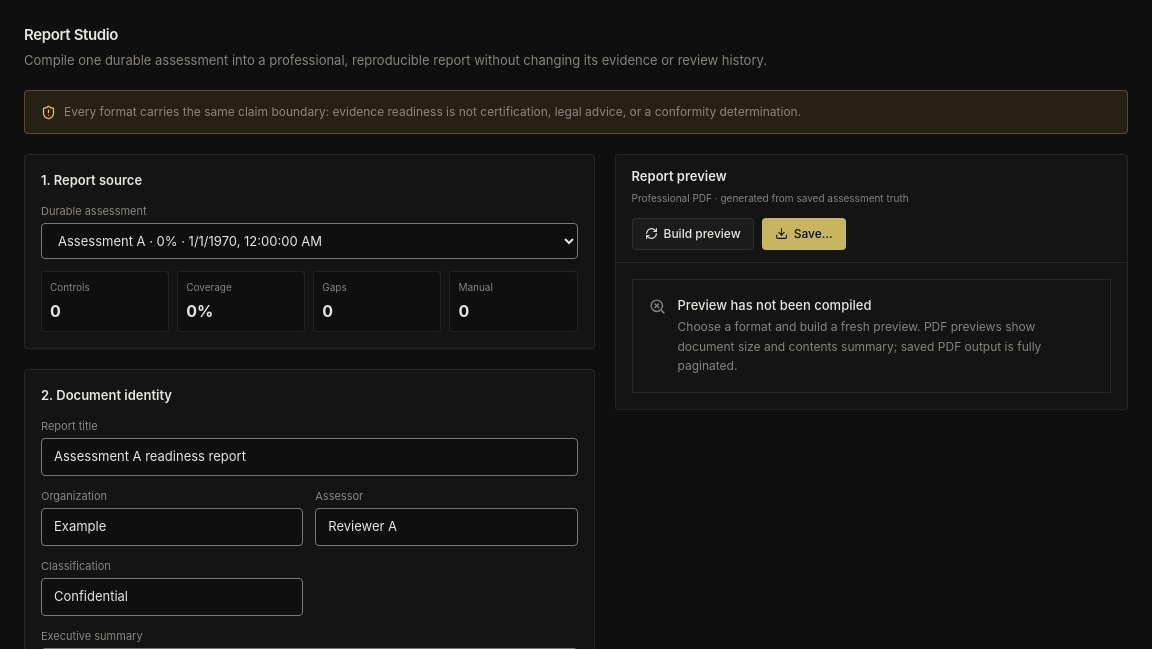
it: a submitted save does not mark changed assessment inputs as saved
Click the button "Save…" at (804, 234), box top-left (762, 218), bottom-right (846, 250)
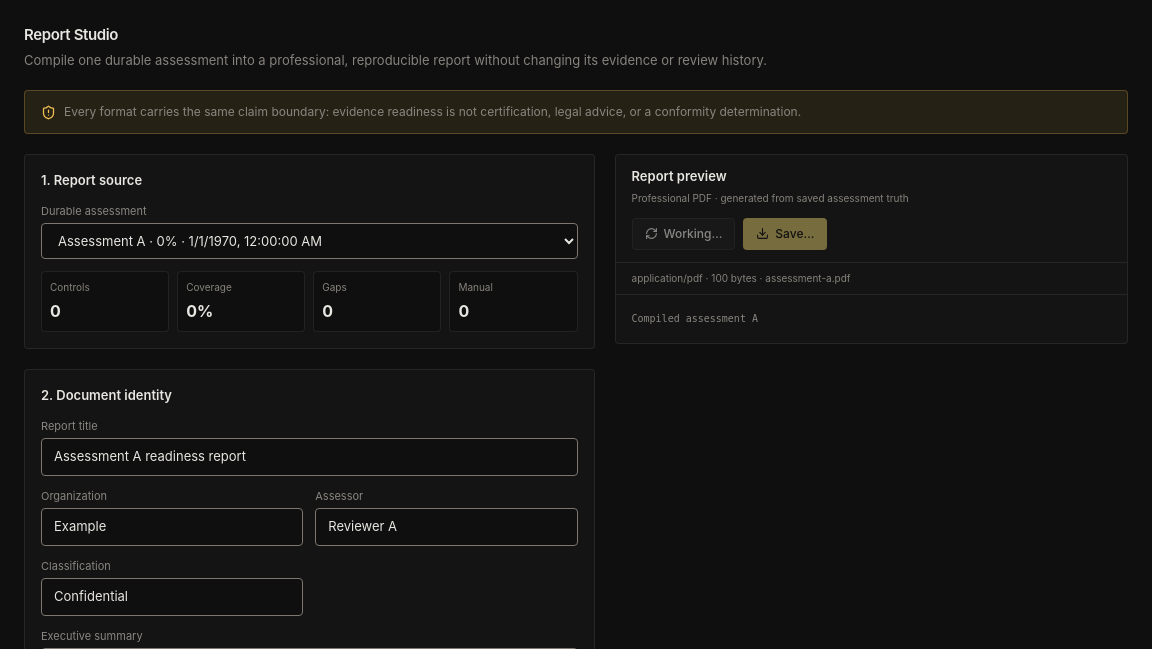
Select "Assessment B · 0% · 1/1/1970, 12:00:00 AM" in the dropdown labelled "Durable assessment" at (309, 241), box top-left (41, 223), bottom-right (578, 259)
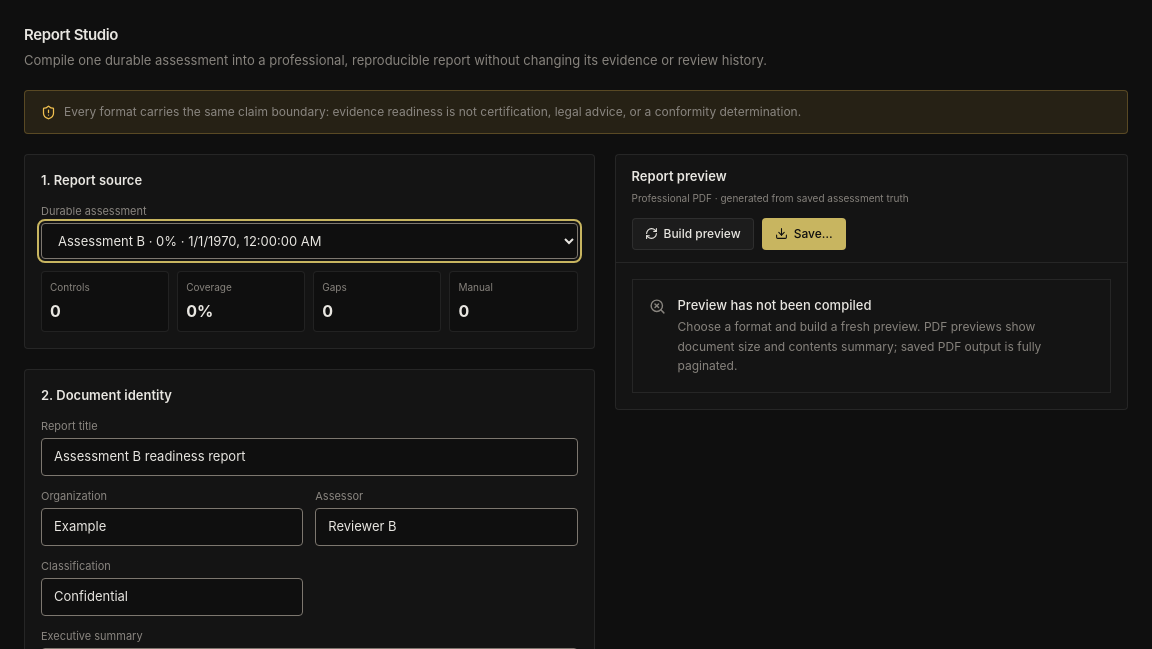
Now the button "Save…" is enabled, box top-left (762, 218), bottom-right (846, 250)
